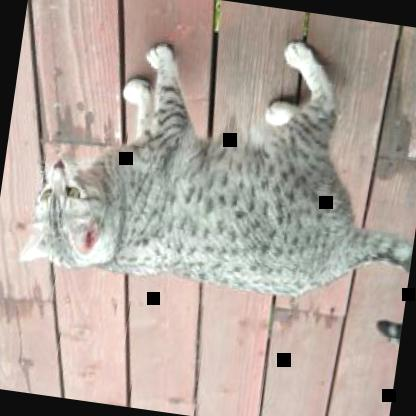cat: (13, 4, 415, 344)
